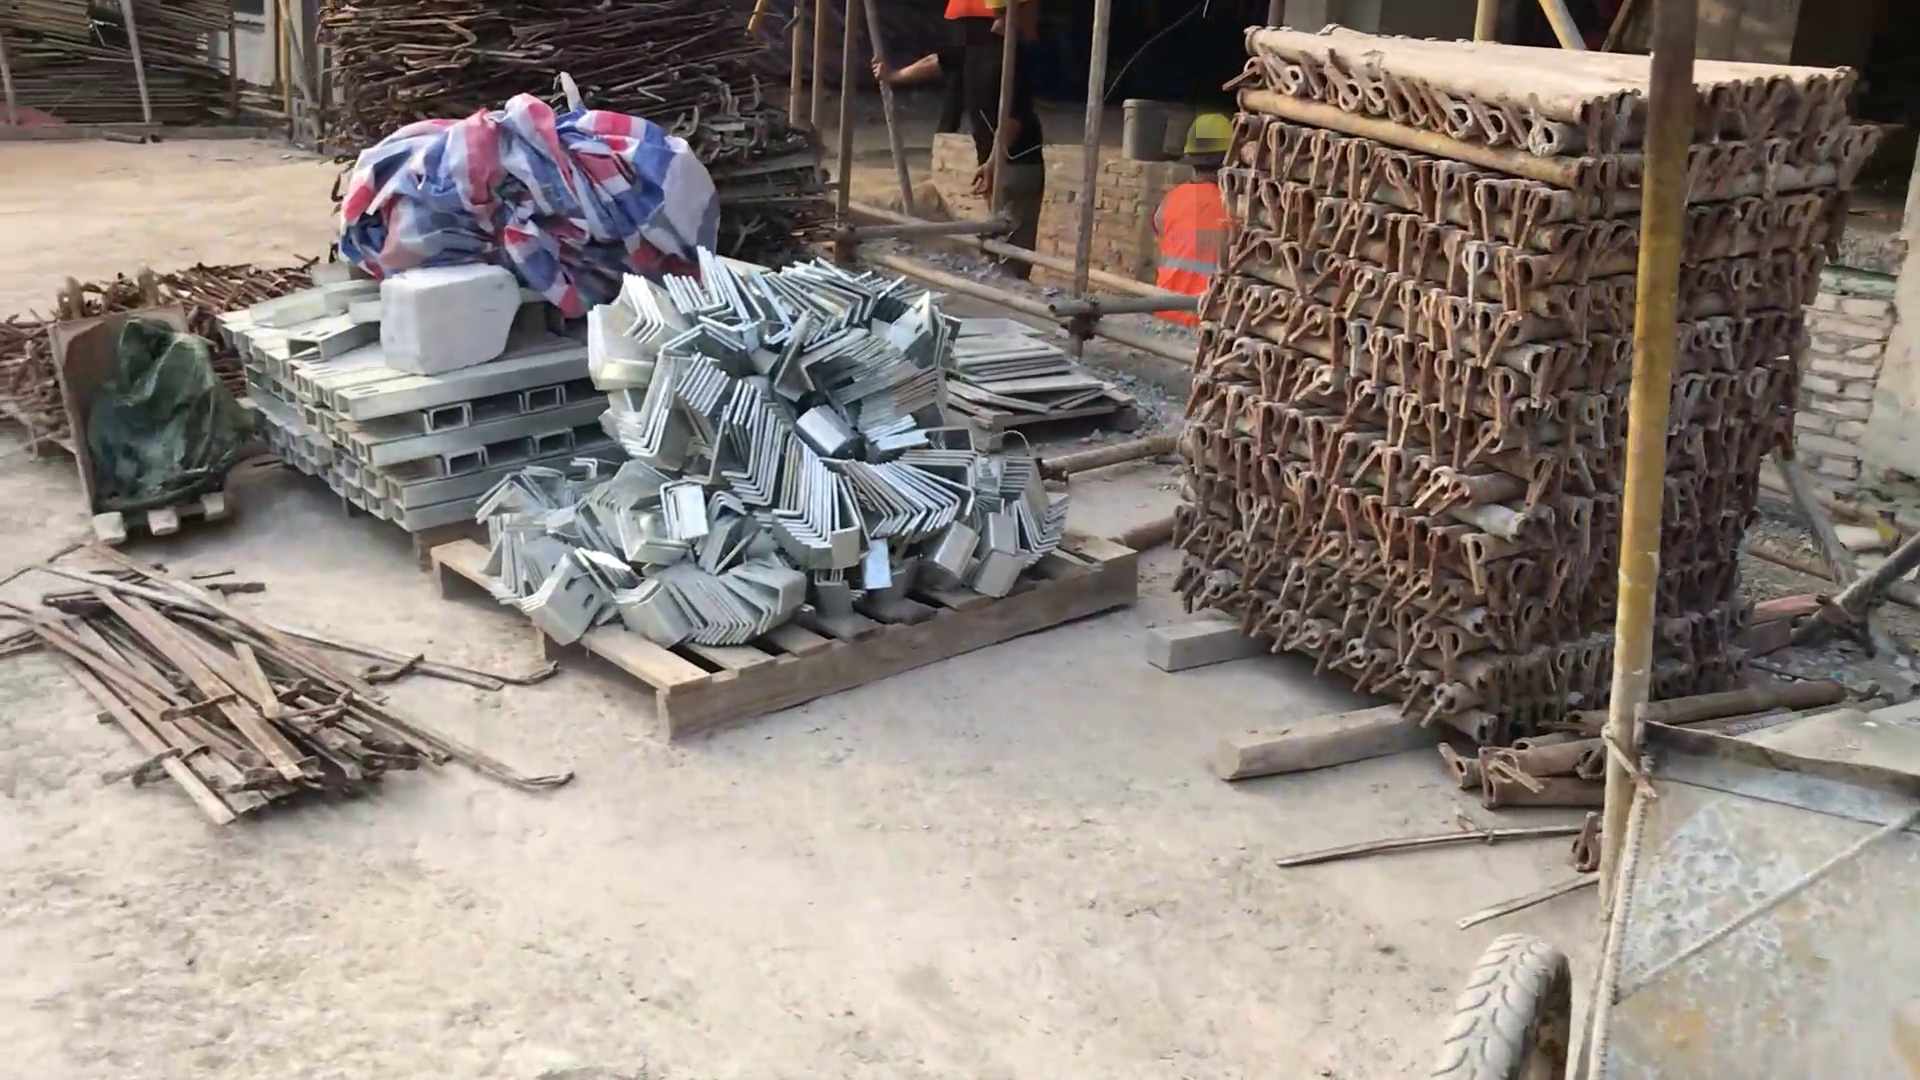board: (1, 2, 269, 129)
handcart: (1426, 1, 1920, 1080)
helmet: (1178, 112, 1237, 165)
person: (866, 1, 1056, 292), (1141, 108, 1233, 334)
scaffold: (1167, 22, 1882, 738)
vest: (1140, 178, 1230, 328)
